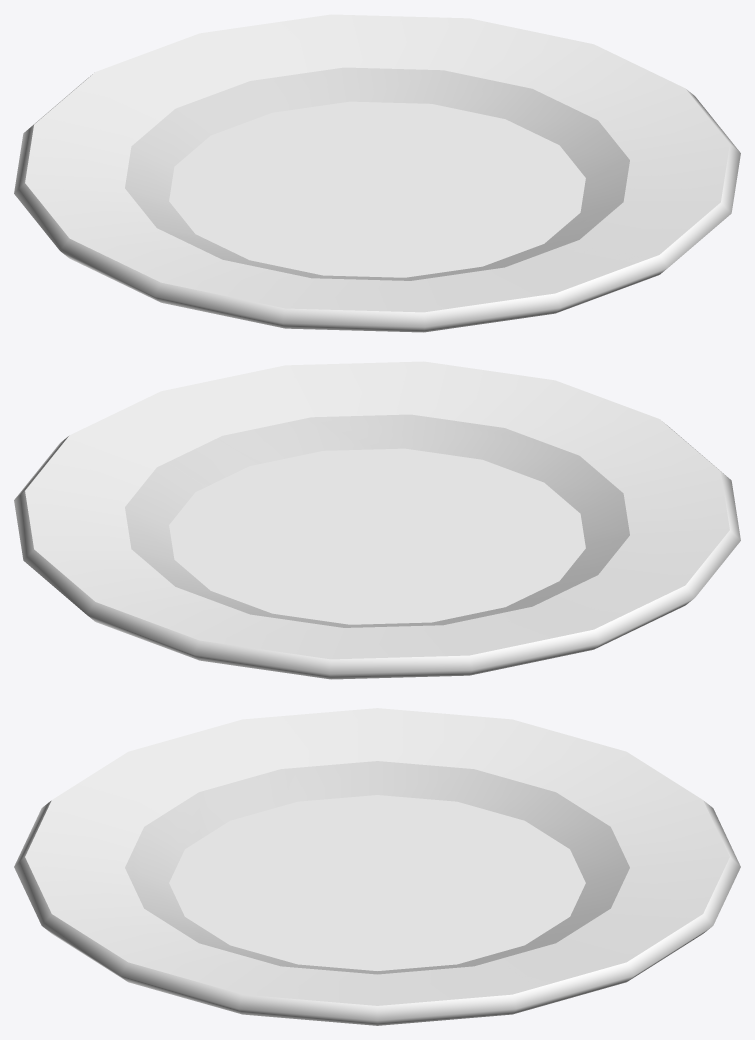
Rendered from HotPlate.fbx.
3 renders of one model, top to bottom at view 1: azimuth 30°, elevation 25°; view 2: azimuth 150°, elevation 25°; view 3: azimuth 270°, elevation 25°, orthographic.
Parts seen in each view (by area): view 1: hotplate; view 2: hotplate; view 3: hotplate.
Boxes of the visible parts, <box> form: hotplate: <box>14,14,740,332</box>; hotplate: <box>14,361,740,679</box>; hotplate: <box>14,708,740,1025</box>.
Bounding box in the file's own units: 2.81 × 0.1844 × 2.81.
